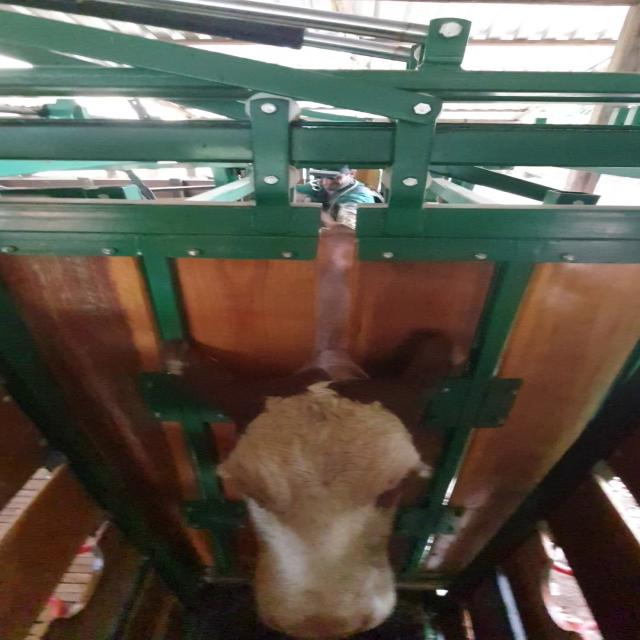cowFace: (222, 386, 414, 636)
